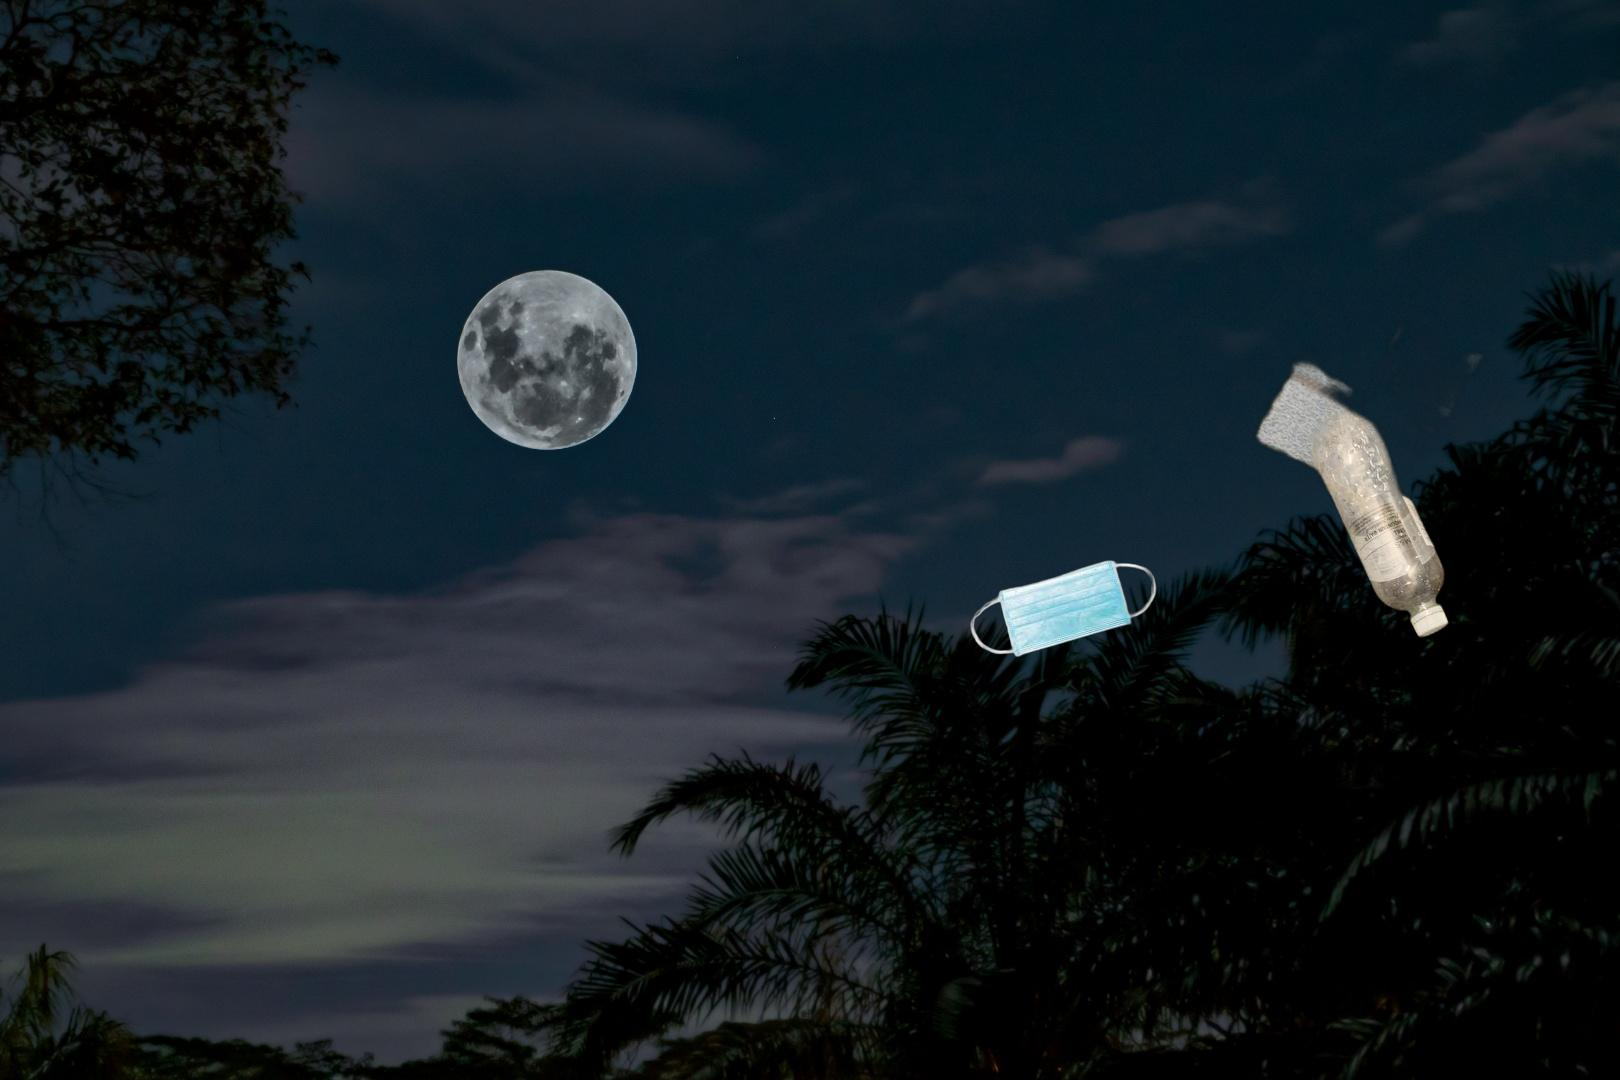plastic-bottles: (1196, 312, 1489, 642)
trash: (967, 558, 1160, 661)
